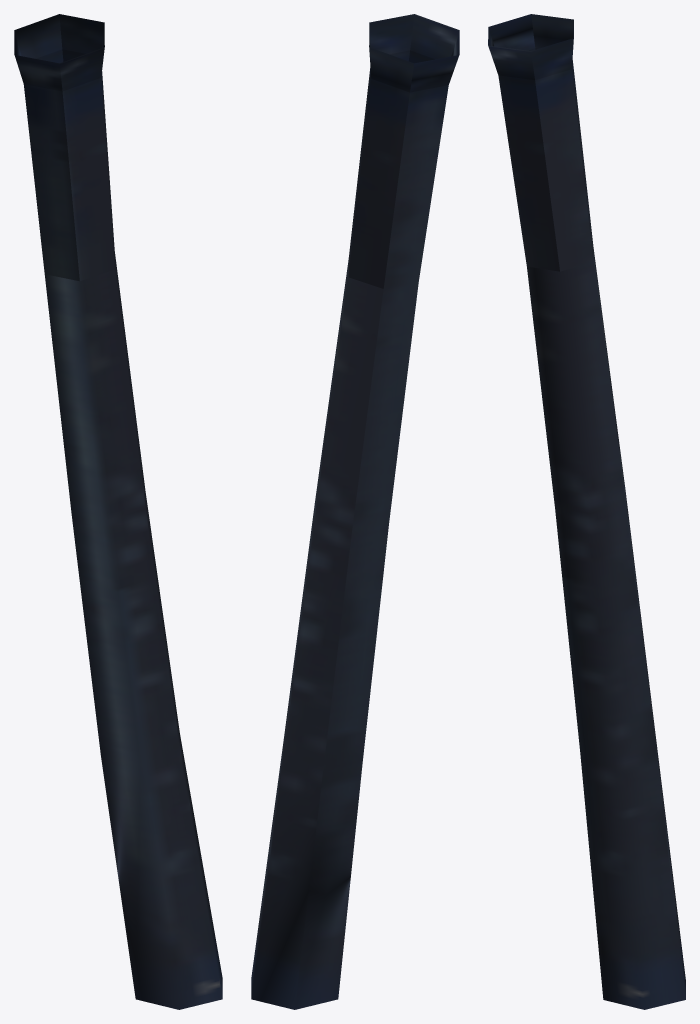
The model's file is HuBian_NightRailing09_FBX.FBX.
The picture shows the model from 3 angles, left to right: view 1: azimuth 30°, elevation 25°; view 2: azimuth 150°, elevation 25°; view 3: azimuth 330°, elevation 25°; orthographic projection. The views are drawn at different scales.
Parts seen in each view (by area): view 1: HuBian_NightRailing09_FBX; view 2: HuBian_NightRailing09_FBX; view 3: HuBian_NightRailing09_FBX.
Boxes of the visible parts, x1,y1,x2,y2 form: HuBian_NightRailing09_FBX: (14,14,222,1009); HuBian_NightRailing09_FBX: (251,14,459,1009); HuBian_NightRailing09_FBX: (488,14,685,1009).
Bounding box in the file's own units: 0.2015 × 0.9106 × 0.0803.
